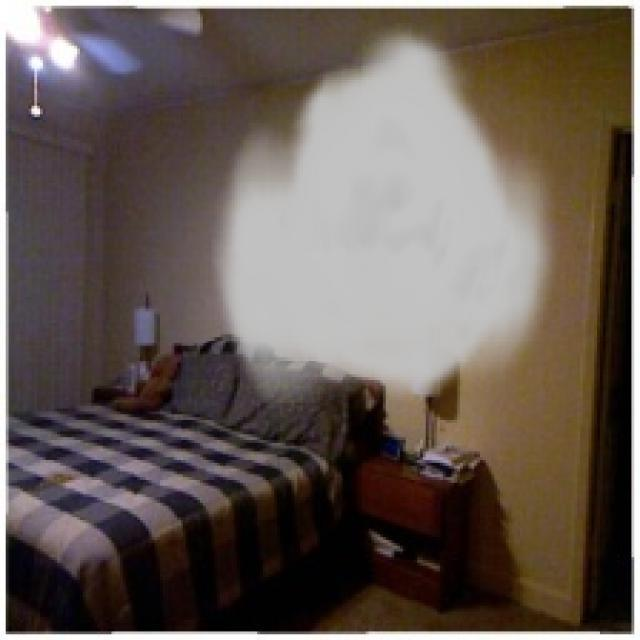Smoke: (211, 23, 563, 403)
